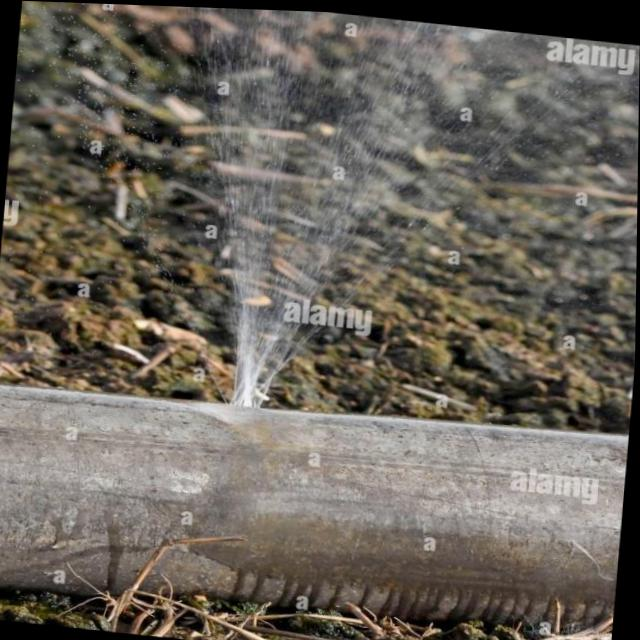leak: (95, 4, 640, 422)
